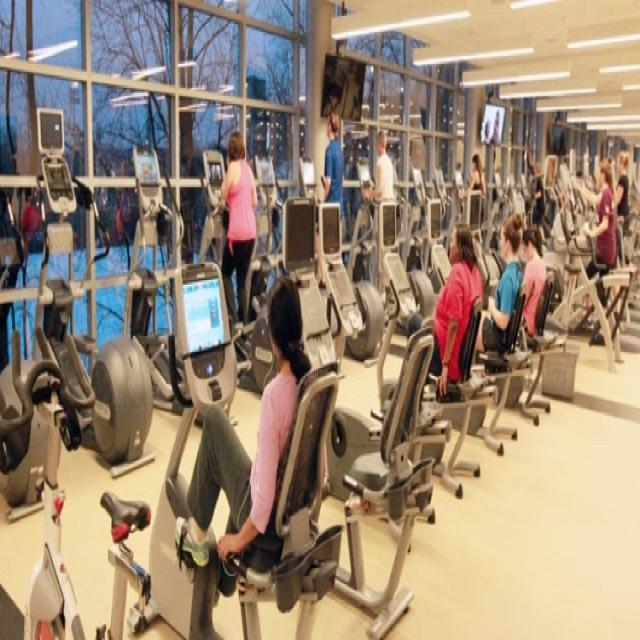body: (172, 276, 315, 598), (405, 218, 485, 402), (11, 147, 139, 256), (218, 128, 258, 347), (475, 210, 524, 356), (576, 154, 616, 331), (555, 148, 597, 226), (520, 226, 548, 339), (316, 110, 344, 222), (363, 126, 396, 206), (611, 149, 630, 272), (463, 152, 488, 222), (530, 160, 547, 227), (482, 99, 504, 146)
